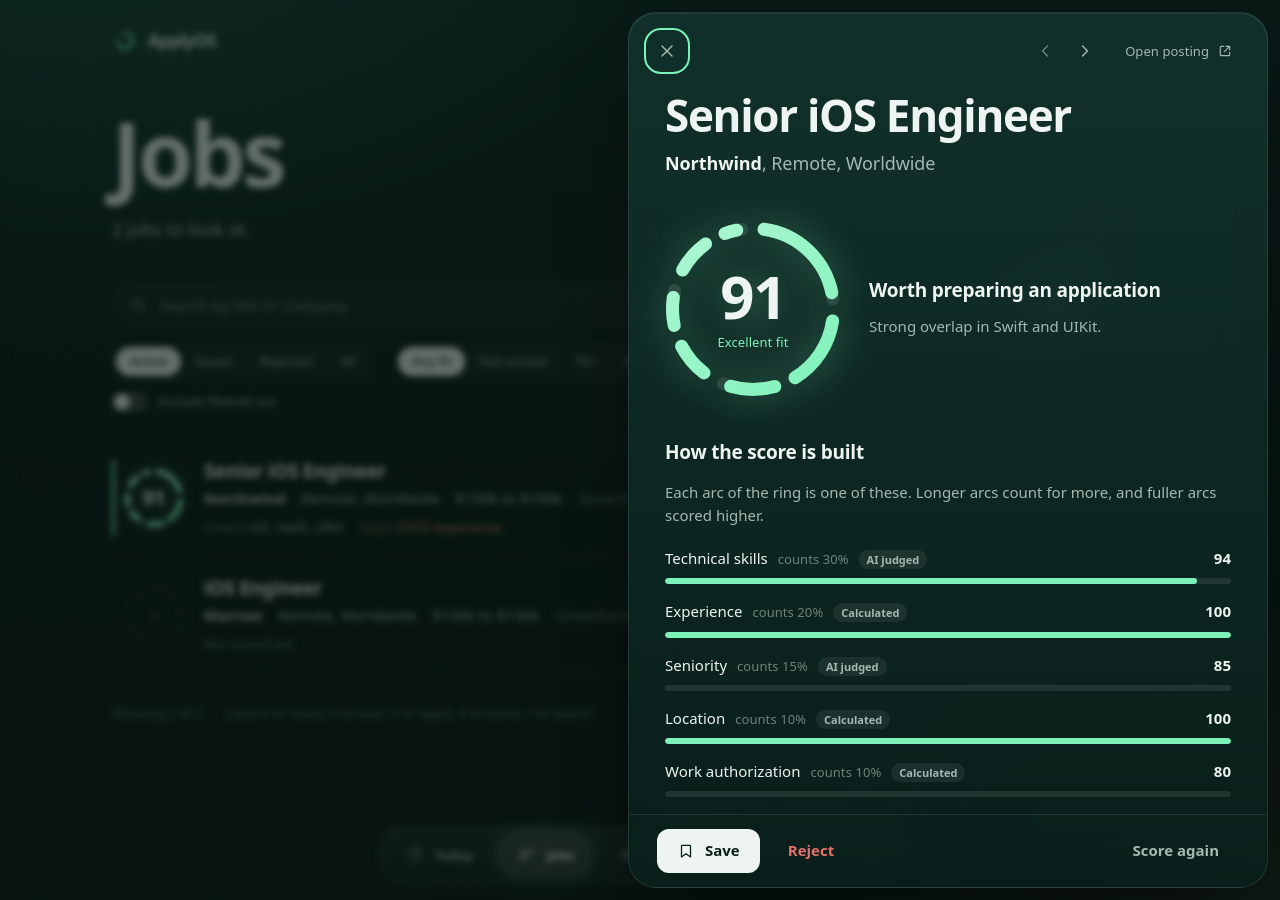
Jobs page › saves a job from the dossier and confirms it
What coordinates should you click on to do the following:
click the button "Save"
I would click on:
 (708, 851)
Its box is [657, 829, 760, 873].
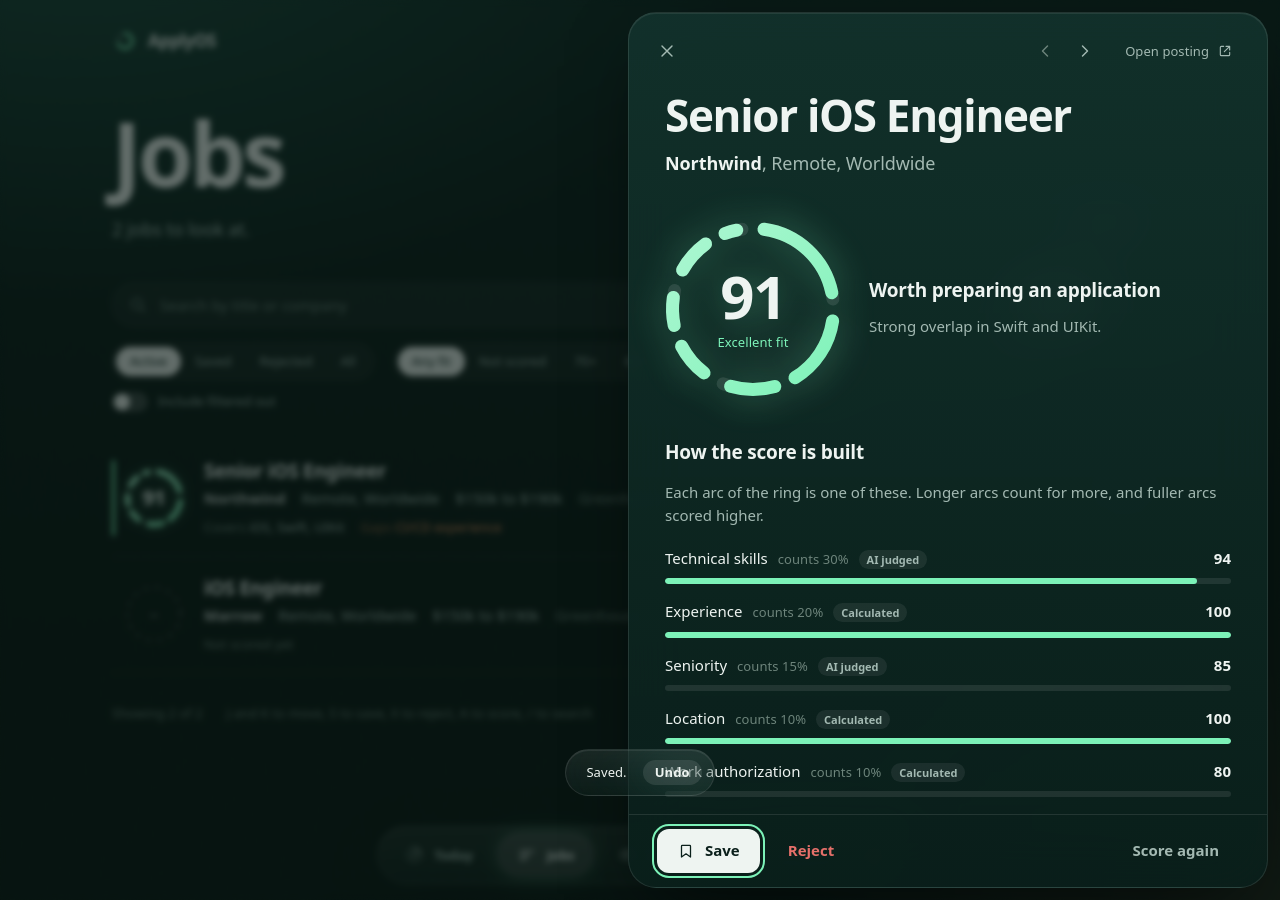
Expected: the text "Saved." is shown, [586, 764, 627, 781]
